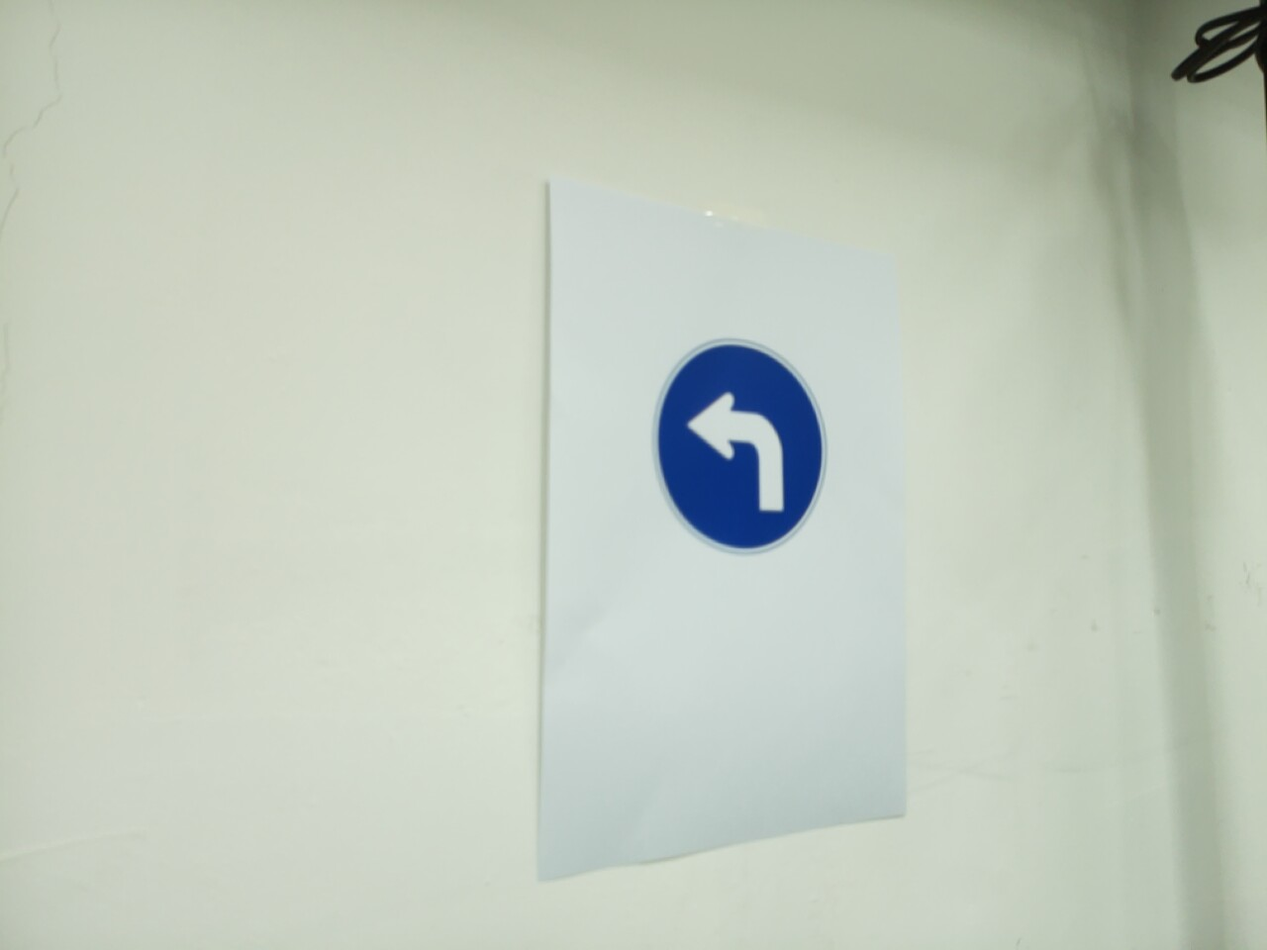left_turn: (651, 336, 829, 556)
